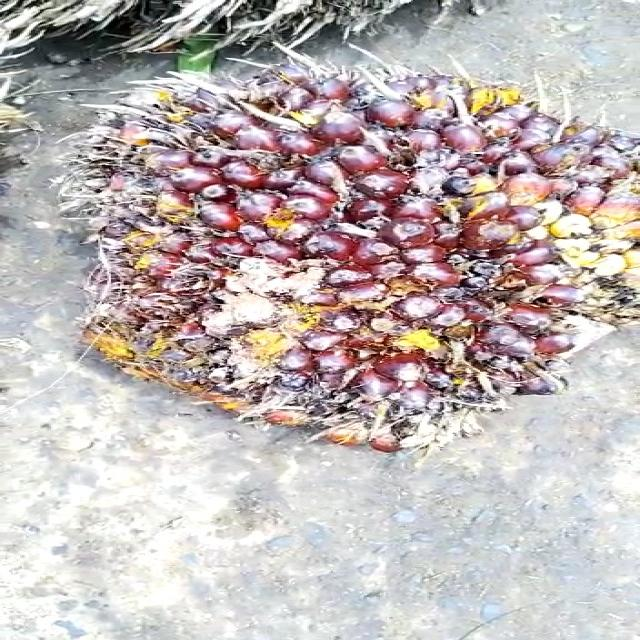palm oil: (65, 69, 640, 455)
